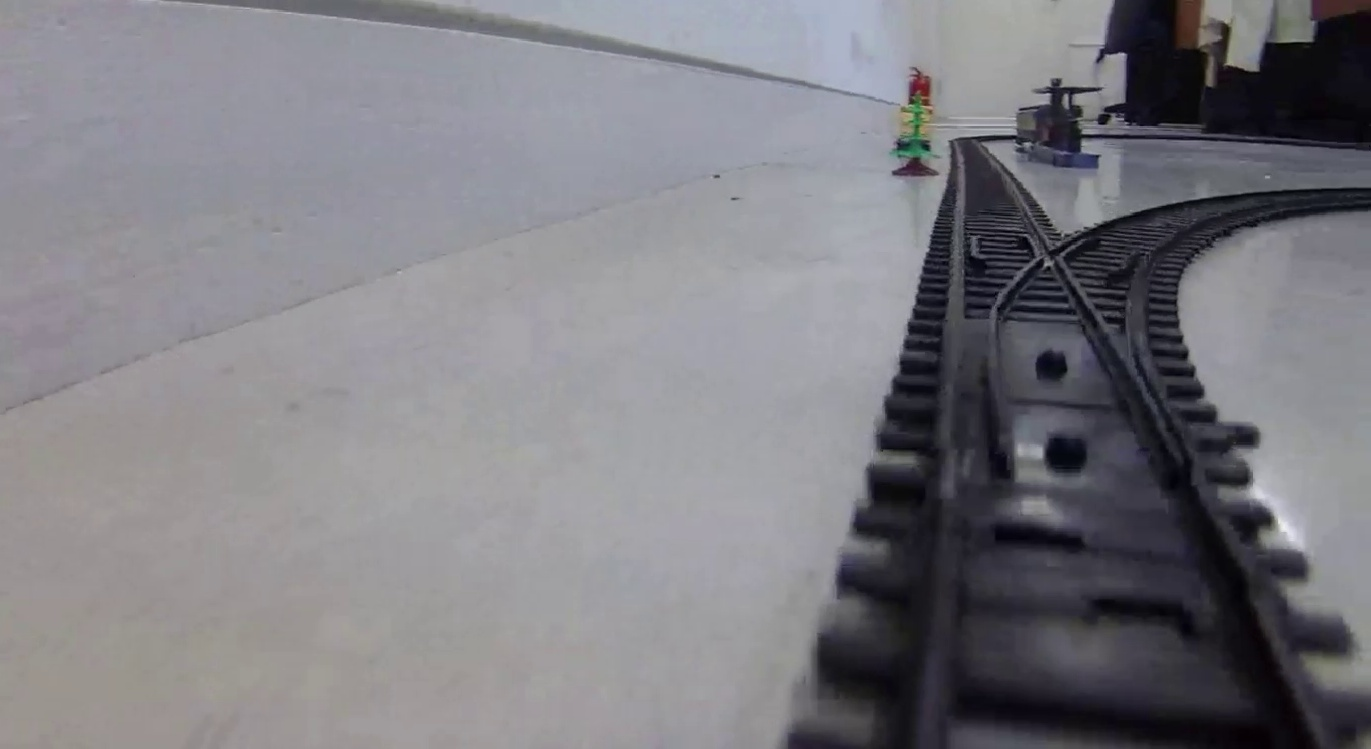tree: (896, 92, 937, 179)
